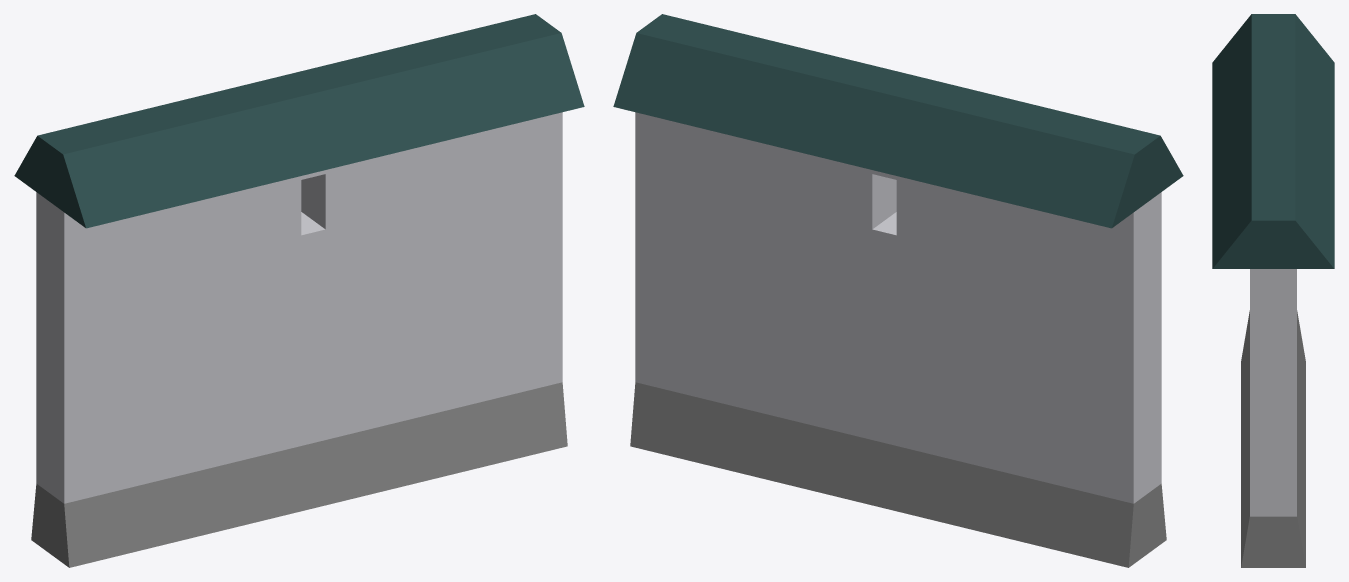
File: Asian_Prop_Building_Fence_Wall_Simple_Embrasure_02.FBX
3 renders of one model, left to right at view 1: azimuth 30°, elevation 25°; view 2: azimuth 150°, elevation 25°; view 3: azimuth 270°, elevation 25°, orthographic. The views are drawn at different scales.
Parts seen in each view (by area): view 1: Asian_Prop_Building_Fence_Wall_Simple_Embrasure_02; view 2: Asian_Prop_Building_Fence_Wall_Simple_Embrasure_02; view 3: Asian_Prop_Building_Fence_Wall_Simple_Embrasure_02.
Boxes of the visible parts, x1,y1,x2,y2 form: Asian_Prop_Building_Fence_Wall_Simple_Embrasure_02: [14, 14, 584, 567]; Asian_Prop_Building_Fence_Wall_Simple_Embrasure_02: [613, 14, 1183, 567]; Asian_Prop_Building_Fence_Wall_Simple_Embrasure_02: [1212, 14, 1334, 567].
Size of the model in its own units: 5167 by 4051 by 1290.
